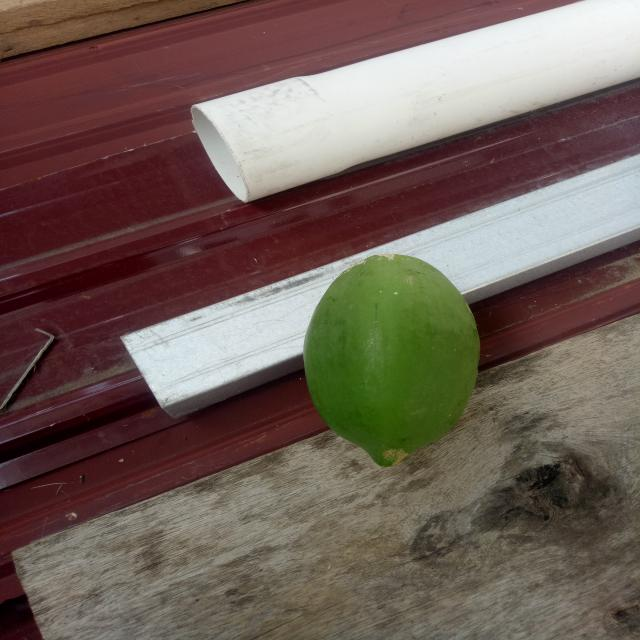Pepaya unrippen: (299, 245, 491, 469)
